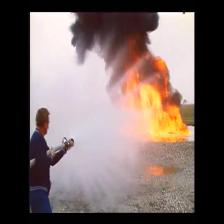fire: (138, 83, 187, 143)
smoke: (78, 14, 149, 49)
